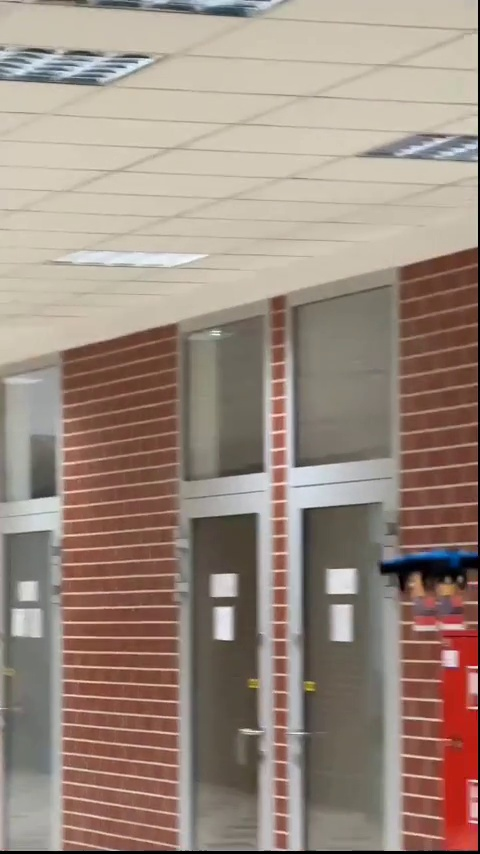drone: (378, 544, 477, 597)
